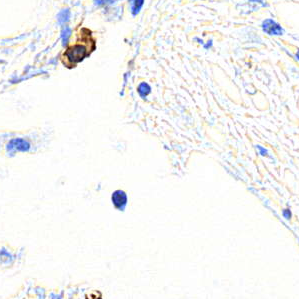Lymphocyte: (59, 28, 96, 67)
